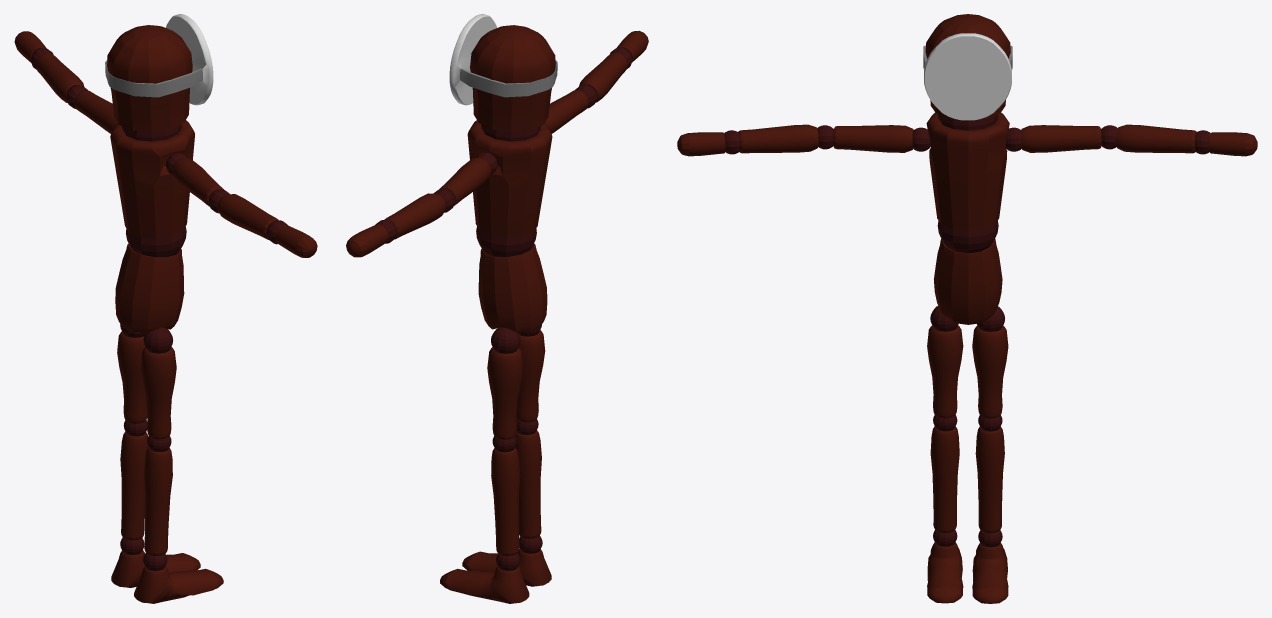
Rendered from AE_Mann_With_Mask02.obj.
3 renders of one model, left to right at view 1: azimuth 30°, elevation 25°; view 2: azimuth 150°, elevation 25°; view 3: azimuth 270°, elevation 25°, orthographic.
Visible parts, largest first — view 1: Mann_Torso Mann_UpperBody Mann_FullBody, Mann_UpperBody Mann_FullBody Mann_Head Mann_Head, Mann_FullBody Mann_Hips Mann_LowerBody, Mann_UpperBody Mann_FullBody Mann_Mask Mann_Head, Mann_FullBody Mann_LowerBody Mann_Leg02 Mann_Leg02, Mann_FullBody Mann_LowerBody Mann_Leg02 Mann_LowerLeg02 Mann_Low, Mann_FullBody Mann_LowerBody Mann_Leg01 Mann_LowerLeg01 Mann_Low, Mann_FullBody Mann_LowerBody Mann_Leg02 Mann_LowerLeg02 Mann_Foo, Mann_FullBody Mann_LowerBody Mann_Leg01 Mann_Leg01, Mann_FullBody Mann_LowerBody Mann_Leg01 Mann_LowerLeg01 Mann_Foo, Mann_UpperBody Mann_FullBody Mann_Arm01 Mann_Joint02 Mann_LowerA, Mann_UpperBody Mann_FullBody Mann_Joint01 Mann_Arm01 (+4 smaller); view 2: Mann_Torso Mann_UpperBody Mann_FullBody, Mann_UpperBody Mann_FullBody Mann_Head Mann_Head, Mann_FullBody Mann_Hips Mann_LowerBody, Mann_UpperBody Mann_FullBody Mann_Mask Mann_Head, Mann_FullBody Mann_LowerBody Mann_Leg01 Mann_Leg01, Mann_FullBody Mann_LowerBody Mann_Leg01 Mann_LowerLeg01 Mann_Low, Mann_FullBody Mann_LowerBody Mann_Leg01 Mann_LowerLeg01 Mann_Foo, Mann_FullBody Mann_LowerBody Mann_Leg02 Mann_LowerLeg02 Mann_Low, Mann_FullBody Mann_LowerBody Mann_Leg02 Mann_Leg02, Mann_FullBody Mann_LowerBody Mann_Leg02 Mann_LowerLeg02 Mann_Foo, Mann_UpperBody Mann_FullBody Mann_Arm02 Mann_Joint02 Mann_LowerA, Mann_UpperBody Mann_FullBody Mann_Joint01 Mann_Arm02 (+4 smaller); view 3: Mann_Torso Mann_UpperBody Mann_FullBody, Mann_UpperBody Mann_FullBody Mann_Mask Mann_Head, Mann_FullBody Mann_Hips Mann_LowerBody, Mann_FullBody Mann_LowerBody Mann_Leg02 Mann_Leg02, Mann_FullBody Mann_LowerBody Mann_Leg01 Mann_Leg01, Mann_FullBody Mann_LowerBody Mann_Leg01 Mann_LowerLeg01 Mann_Low, Mann_FullBody Mann_LowerBody Mann_Leg02 Mann_LowerLeg02 Mann_Low, Mann_UpperBody Mann_FullBody Mann_Joint01 Mann_Arm01, Mann_UpperBody Mann_FullBody Mann_Head Mann_Head, Mann_UpperBody Mann_FullBody Mann_Joint01 Mann_Arm02, Mann_UpperBody Mann_FullBody Mann_Arm01 Mann_Joint02 Mann_LowerA, Mann_UpperBody Mann_FullBody Mann_Arm02 Mann_Joint02 Mann_LowerA (+4 smaller).
Boxes of the visible parts, box(x1,y1,x2,y2) form: Mann_Torso Mann_UpperBody Mann_FullBody: box(110, 120, 194, 257); Mann_UpperBody Mann_FullBody Mann_Head Mann_Head: box(107, 25, 192, 141); Mann_FullBody Mann_Hips Mann_LowerBody: box(115, 243, 184, 332); Mann_UpperBody Mann_FullBody Mann_Mask Mann_Head: box(105, 14, 213, 105); Mann_FullBody Mann_LowerBody Mann_Leg02 Mann_Leg02: box(140, 327, 176, 439); Mann_FullBody Mann_LowerBody Mann_Leg02 Mann_LowerLeg02 Mann_Low: box(143, 436, 172, 555); Mann_FullBody Mann_LowerBody Mann_Leg01 Mann_LowerLeg01 Mann_Low: box(120, 420, 148, 540); Mann_FullBody Mann_LowerBody Mann_Leg02 Mann_LowerLeg02 Mann_Foo: box(134, 553, 223, 603); Mann_FullBody Mann_LowerBody Mann_Leg01 Mann_Leg01: box(117, 324, 147, 423); Mann_FullBody Mann_LowerBody Mann_Leg01 Mann_LowerLeg01 Mann_Foo: box(111, 537, 200, 587); Mann_UpperBody Mann_FullBody Mann_Arm01 Mann_Joint02 Mann_LowerA: box(208, 189, 279, 239); Mann_UpperBody Mann_FullBody Mann_Joint01 Mann_Arm01: box(165, 153, 223, 206); Mann_Torso Mann_UpperBody Mann_FullBody: box(467, 120, 552, 256); Mann_UpperBody Mann_FullBody Mann_Head Mann_Head: box(470, 25, 555, 141); Mann_FullBody Mann_Hips Mann_LowerBody: box(478, 243, 547, 332); Mann_UpperBody Mann_FullBody Mann_Mask Mann_Head: box(449, 14, 557, 105); Mann_FullBody Mann_LowerBody Mann_Leg01 Mann_Leg01: box(487, 327, 523, 439); Mann_FullBody Mann_LowerBody Mann_Leg01 Mann_LowerLeg01 Mann_Low: box(491, 436, 520, 556); Mann_FullBody Mann_LowerBody Mann_Leg01 Mann_LowerLeg01 Mann_Foo: box(440, 553, 529, 603); Mann_FullBody Mann_LowerBody Mann_Leg02 Mann_LowerLeg02 Mann_Low: box(515, 419, 541, 538); Mann_FullBody Mann_LowerBody Mann_Leg02 Mann_Leg02: box(516, 325, 545, 422); Mann_FullBody Mann_LowerBody Mann_Leg02 Mann_LowerLeg02 Mann_Foo: box(462, 535, 551, 586); Mann_UpperBody Mann_FullBody Mann_Arm02 Mann_Joint02 Mann_LowerA: box(384, 189, 454, 239); Mann_UpperBody Mann_FullBody Mann_Joint01 Mann_Arm02: box(439, 152, 497, 205); Mann_Torso Mann_UpperBody Mann_FullBody: box(926, 112, 1009, 253); Mann_UpperBody Mann_FullBody Mann_Mask Mann_Head: box(923, 33, 1012, 120); Mann_FullBody Mann_Hips Mann_LowerBody: box(934, 239, 1002, 324); Mann_FullBody Mann_LowerBody Mann_Leg02 Mann_Leg02: box(927, 306, 963, 418); Mann_FullBody Mann_LowerBody Mann_Leg01 Mann_Leg01: box(972, 306, 1008, 418); Mann_FullBody Mann_LowerBody Mann_Leg01 Mann_LowerLeg01 Mann_Low: box(975, 415, 1004, 533); Mann_FullBody Mann_LowerBody Mann_Leg02 Mann_LowerLeg02 Mann_Low: box(930, 415, 959, 533); Mann_UpperBody Mann_FullBody Mann_Joint01 Mann_Arm01: box(833, 125, 930, 152); Mann_UpperBody Mann_FullBody Mann_Head Mann_Head: box(925, 14, 1010, 130); Mann_UpperBody Mann_FullBody Mann_Joint01 Mann_Arm02: box(1005, 125, 1101, 152); Mann_UpperBody Mann_FullBody Mann_Arm01 Mann_Joint02 Mann_LowerA: box(738, 124, 833, 153); Mann_UpperBody Mann_FullBody Mann_Arm02 Mann_Joint02 Mann_LowerA: box(1101, 124, 1196, 153).
Size of the model in its own units: 93.84 by 507 by 476.
